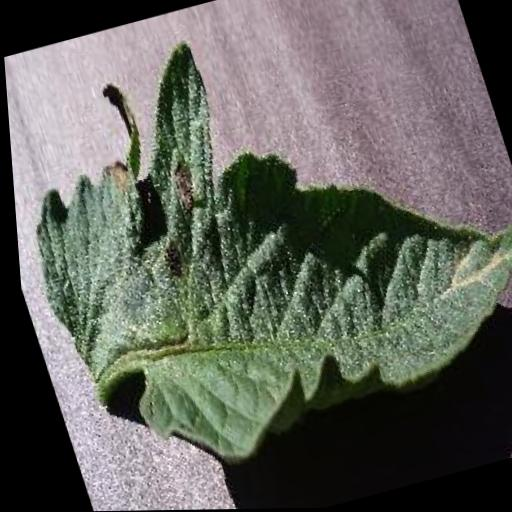Early Blight: (0, 0, 512, 486)
